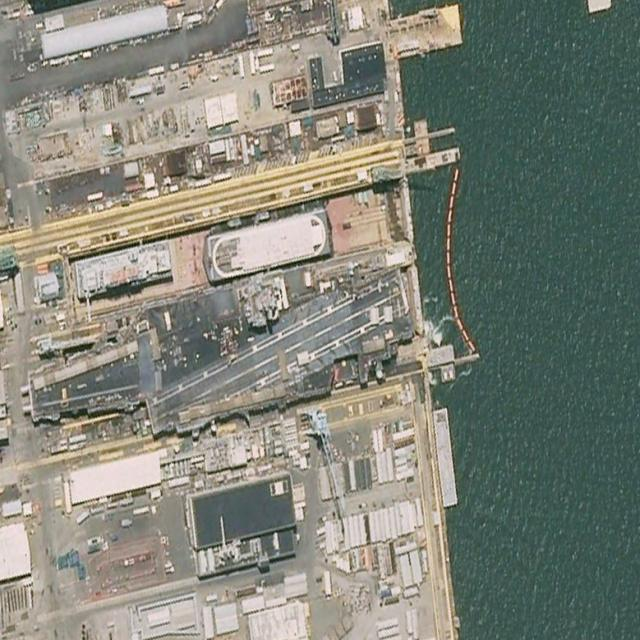Aircraft Carrier: (13, 240, 420, 475)
